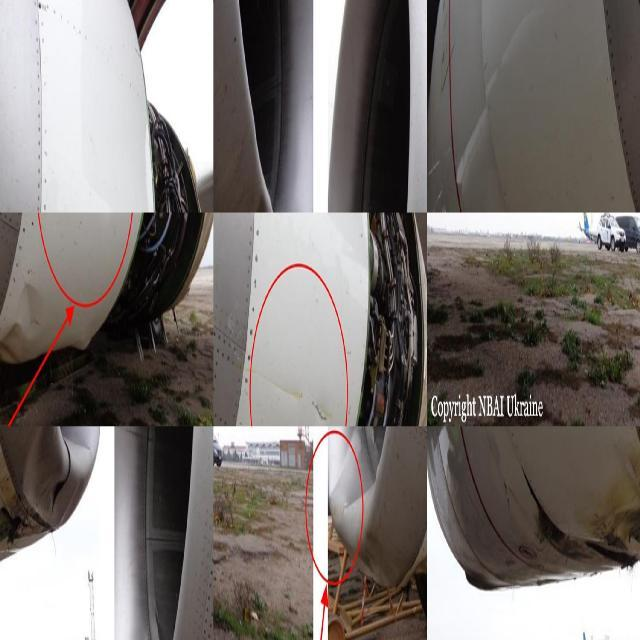crack: (311, 393, 329, 427)
dent: (346, 525, 400, 597), (2, 278, 47, 363)
